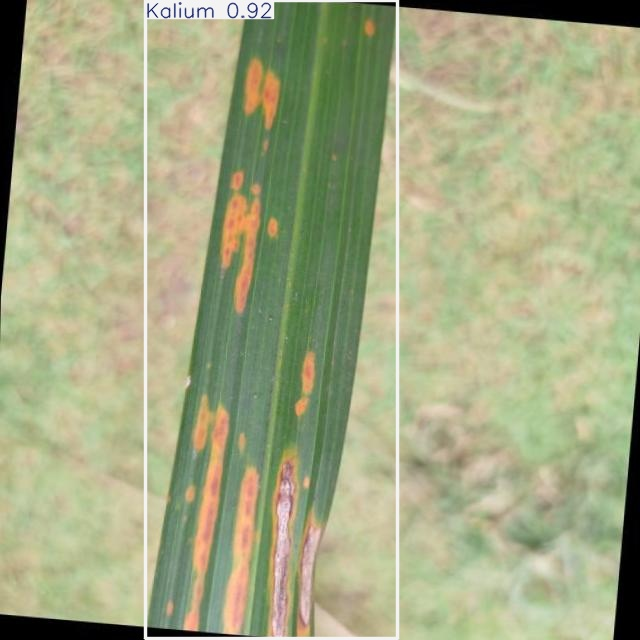Kalium: (145, 1, 398, 638)
